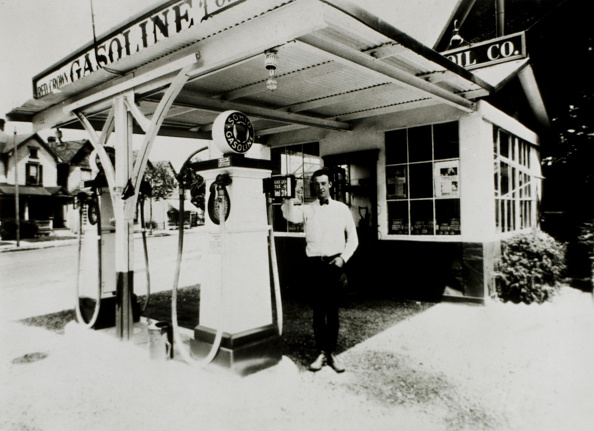em pe: (282, 165, 355, 367)
